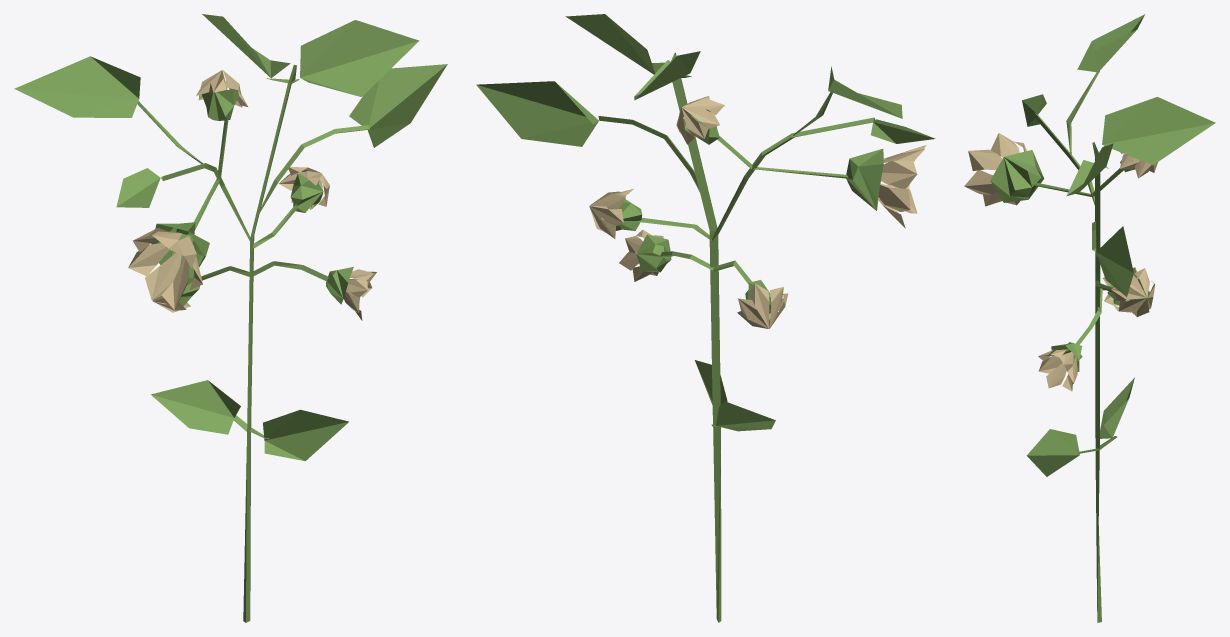
File: Peppers_4.fbx
The picture shows the model from 3 angles, left to right: view 1: azimuth 30°, elevation 25°; view 2: azimuth 150°, elevation 25°; view 3: azimuth 270°, elevation 25°; orthographic projection. The views are drawn at different scales.
Visible parts, largest first — view 1: Peppers_4; view 2: Peppers_4; view 3: Peppers_4.
Boxes of the visible parts, x1=… form: Peppers_4: x1=14, y1=14, x2=447, y2=622; Peppers_4: x1=476, y1=14, x2=935, y2=622; Peppers_4: x1=964, y1=14, x2=1215, y2=622.
Bounding box in the file's own units: 62.6 × 81.6 × 34.97.
